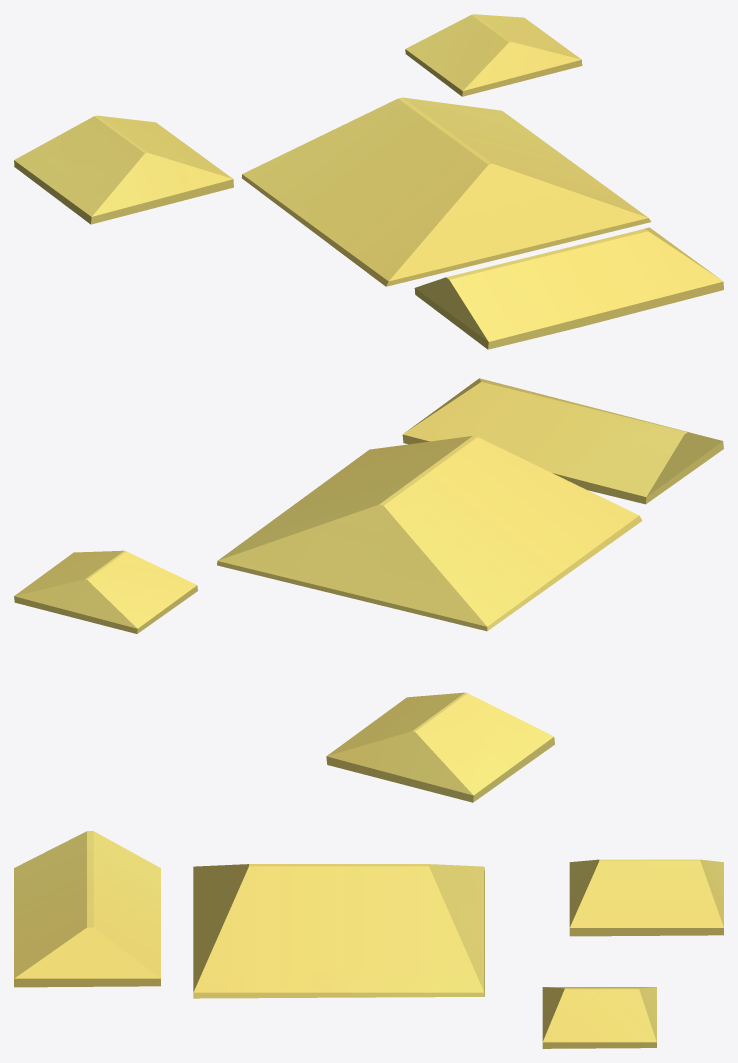
File: techos amarillos.fbx
3 renders of one model, top to bottom at view 1: azimuth 30°, elevation 25°; view 2: azimuth 150°, elevation 25°; view 3: azimuth 270°, elevation 25°, orthographic. The views are drawn at different scales.
Parts seen in each view (by area): view 1: techo_tipo_7, techo_tipo_8, techo_tipo_6, techo_tipo_5; view 2: techo_tipo_7, techo_tipo_8, techo_tipo_6, techo_tipo_5; view 3: techo_tipo_7, techo_tipo_8, techo_tipo_6, techo_tipo_5.
Boxes of the visible parts, x1,y1,x2,y2 form: techo_tipo_7: (241,97,651,286); techo_tipo_8: (414,227,723,349); techo_tipo_6: (14,115,233,224); techo_tipo_5: (405,14,582,96); techo_tipo_7: (217,436,642,631); techo_tipo_8: (402,378,723,504); techo_tipo_6: (326,692,554,802); techo_tipo_5: (14,550,197,633); techo_tipo_7: (193,864,484,998); techo_tipo_8: (14,831,160,987); techo_tipo_6: (569,859,723,936); techo_tipo_5: (542,987,656,1048).
Size of the model in its own units: 3036 by 732 by 3937.
